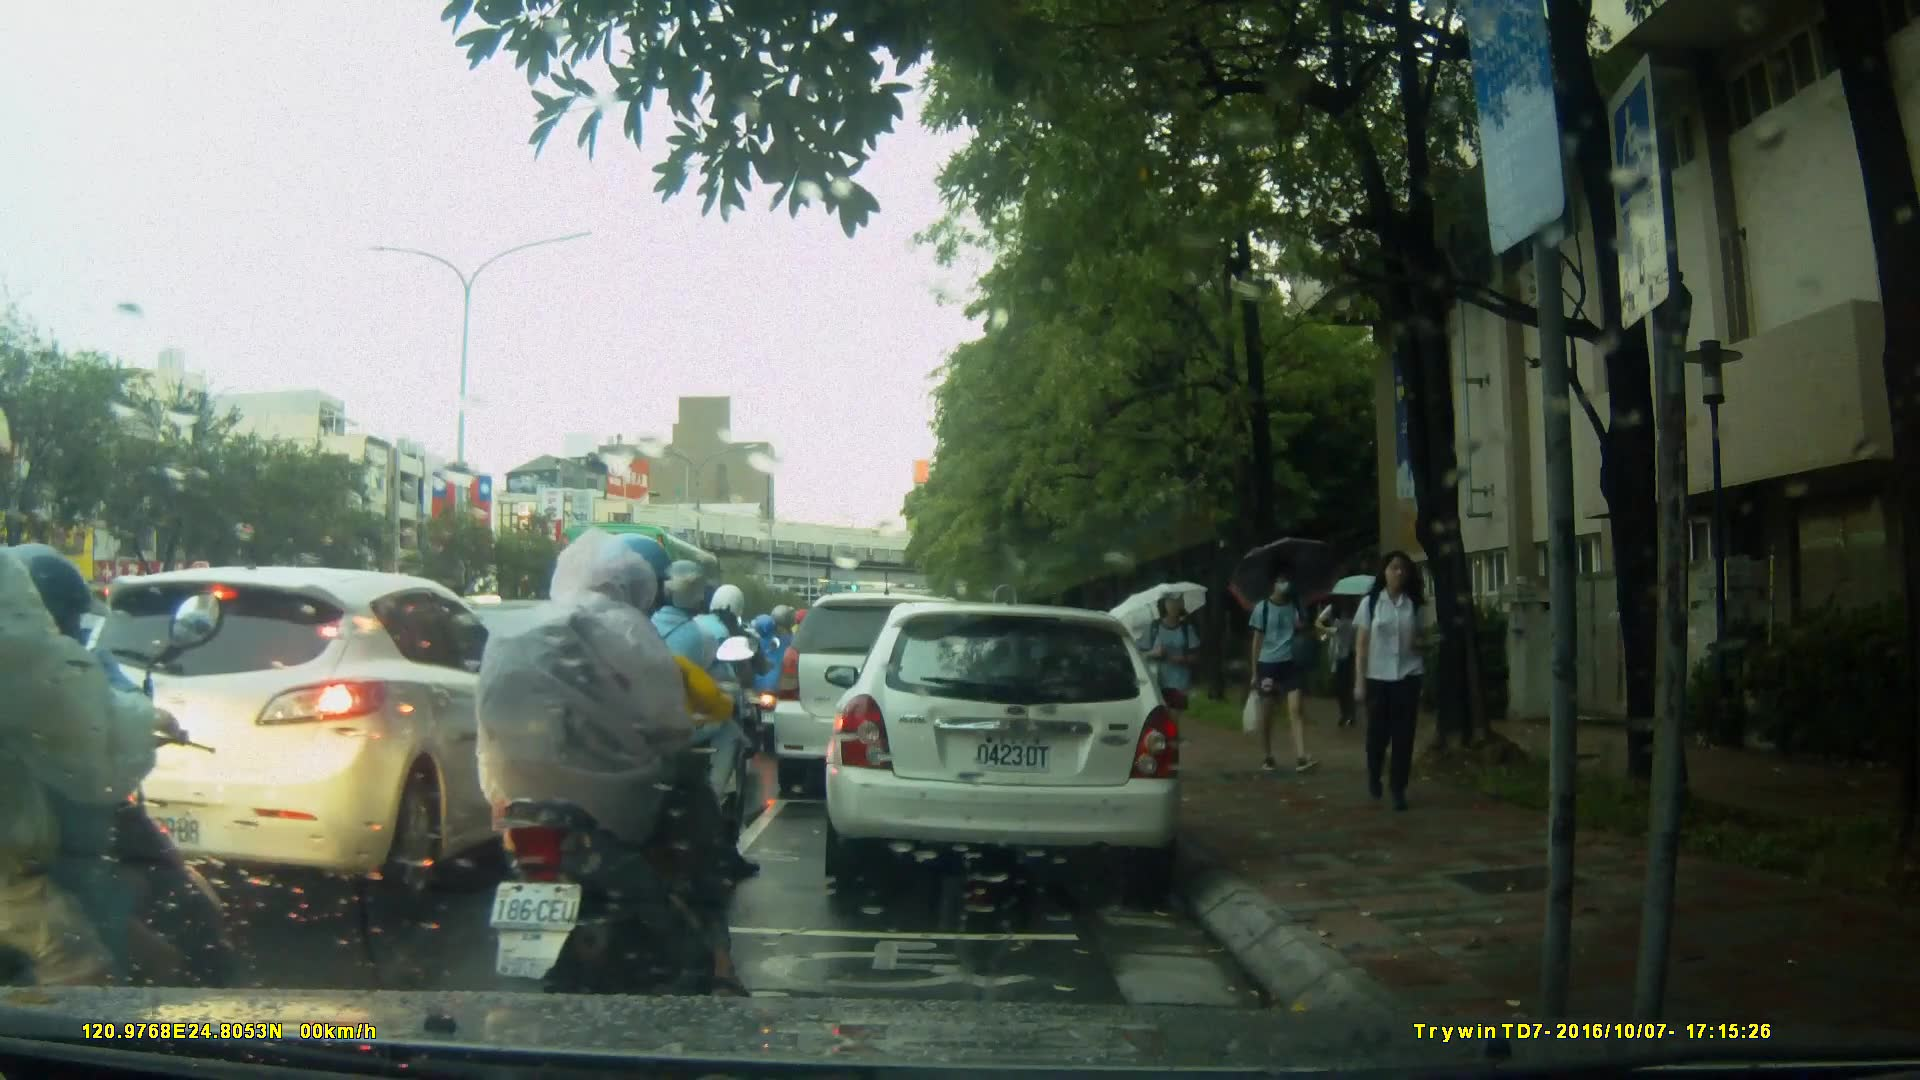pedestrian: (1338, 544, 1444, 821), (1237, 558, 1318, 781), (1140, 588, 1202, 765), (1136, 605, 1176, 738)
rider: (1, 446, 244, 1067), (483, 534, 766, 1011), (601, 561, 738, 872), (641, 578, 759, 844), (737, 602, 799, 746)
vehicle: (67, 566, 582, 896), (822, 604, 1186, 882), (774, 595, 995, 802), (554, 519, 739, 666)
